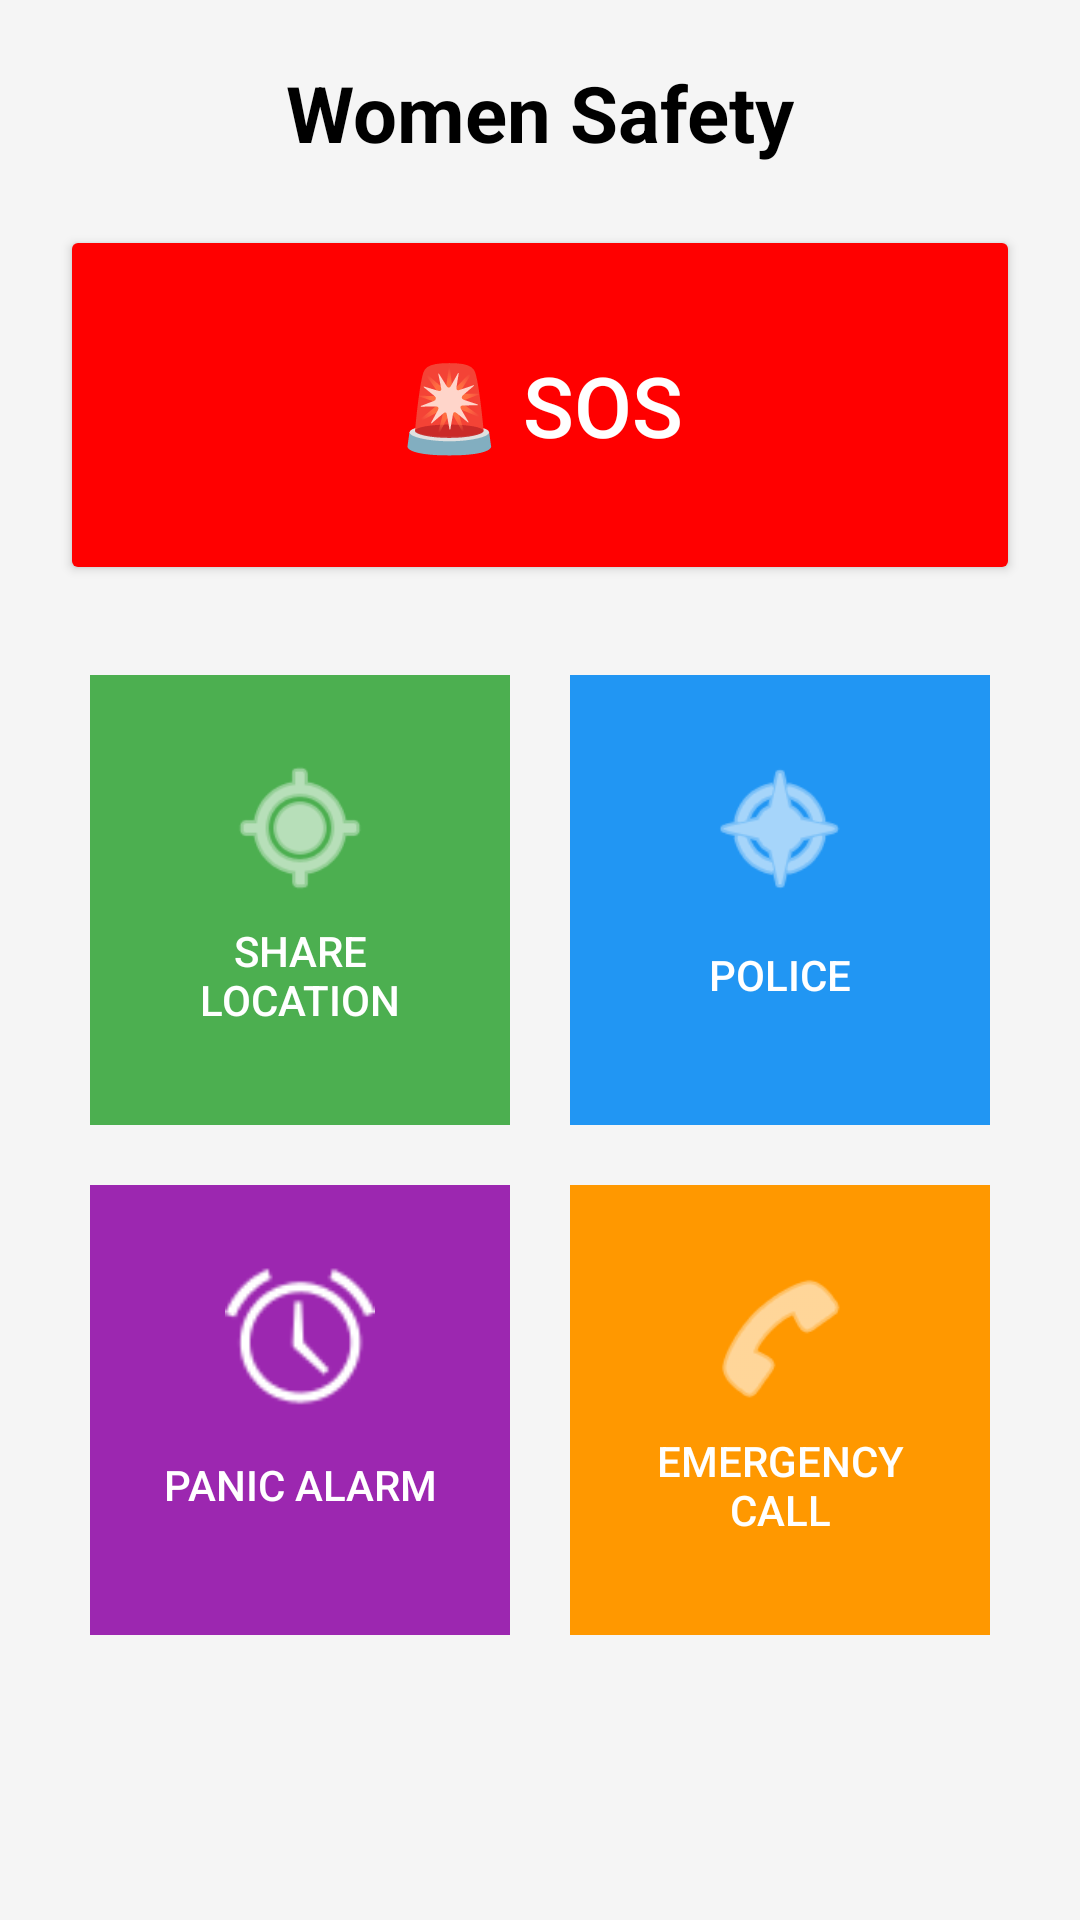

Screen size 1080 x 1920. Icon name, then its center in pixels as (x=x, y=y):
compass: (x=779, y=829)
lock idle alarm: (x=300, y=1336)
mylocation: (x=300, y=828)
